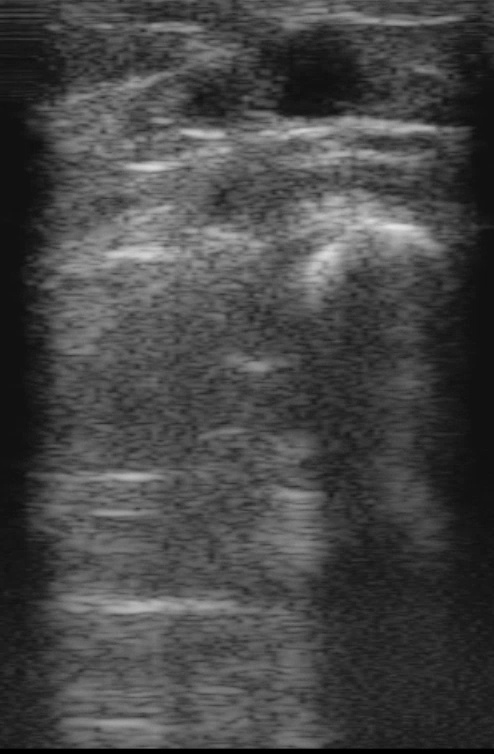veins_detect: (248, 15, 391, 125)
veins_seg: (256, 27, 375, 117)
